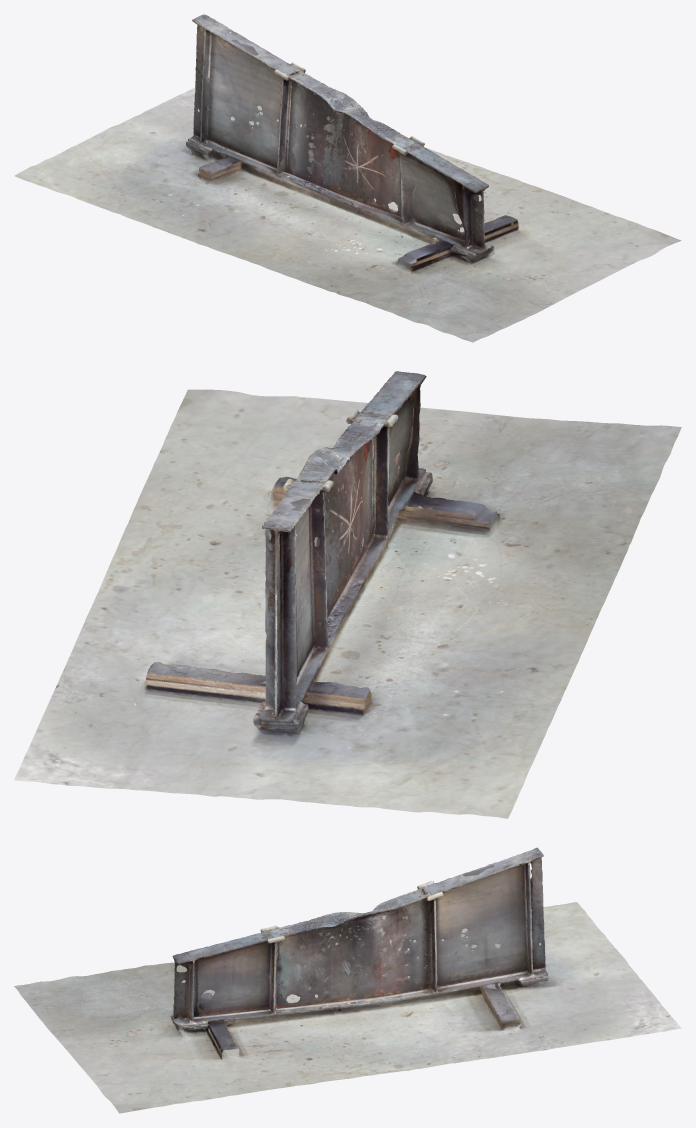
3 renders of one model, top to bottom at view 1: azimuth 30°, elevation 25°; view 2: azimuth 150°, elevation 25°; view 3: azimuth 270°, elevation 25°, orthographic. The views are drawn at different scales.
Size of the model in its own units: 2.22 by 0.6638 by 2.98.
1 material, 1 textured.
